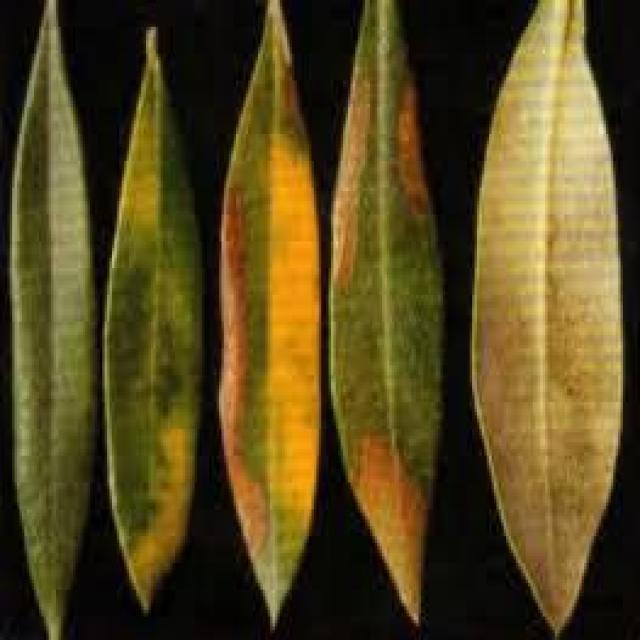OlivePeacockSpot: (474, 0, 620, 630), (328, 0, 441, 620), (222, 17, 316, 613), (105, 27, 197, 610)
